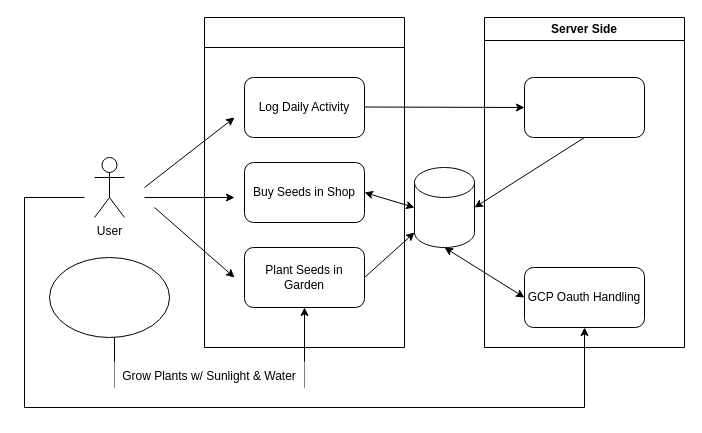
Image size: 702x433. Some labels were removed from this diagram. The shapes that lost their labels are listed below. From the top down, each one's box as (x1, y1, x2, y2) in pixels, then its label:
(524, 76, 644, 138): Points Calculated
(204, 16, 404, 348): Client Side
(414, 166, 474, 248): Supabase DB
(48, 256, 170, 338): # Hours Slept & mL Water Drank
